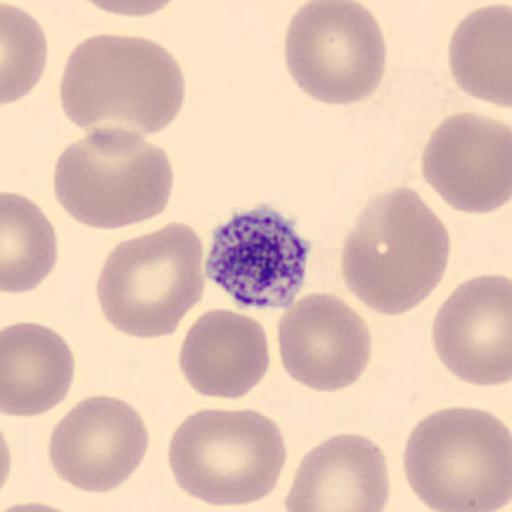Platelet: (202, 204, 314, 310)
RBC: (339, 184, 452, 318), (60, 31, 188, 140), (95, 220, 207, 341), (51, 124, 175, 231), (166, 406, 289, 508), (400, 405, 512, 512), (281, 0, 387, 107), (47, 393, 151, 496), (276, 290, 374, 395), (420, 109, 512, 215), (431, 272, 512, 388), (177, 306, 271, 402), (285, 431, 391, 511), (1, 320, 77, 420), (446, 1, 512, 108), (2, 190, 58, 294), (1, 2, 50, 108), (74, 0, 187, 18), (0, 500, 87, 512), (0, 423, 13, 502)
